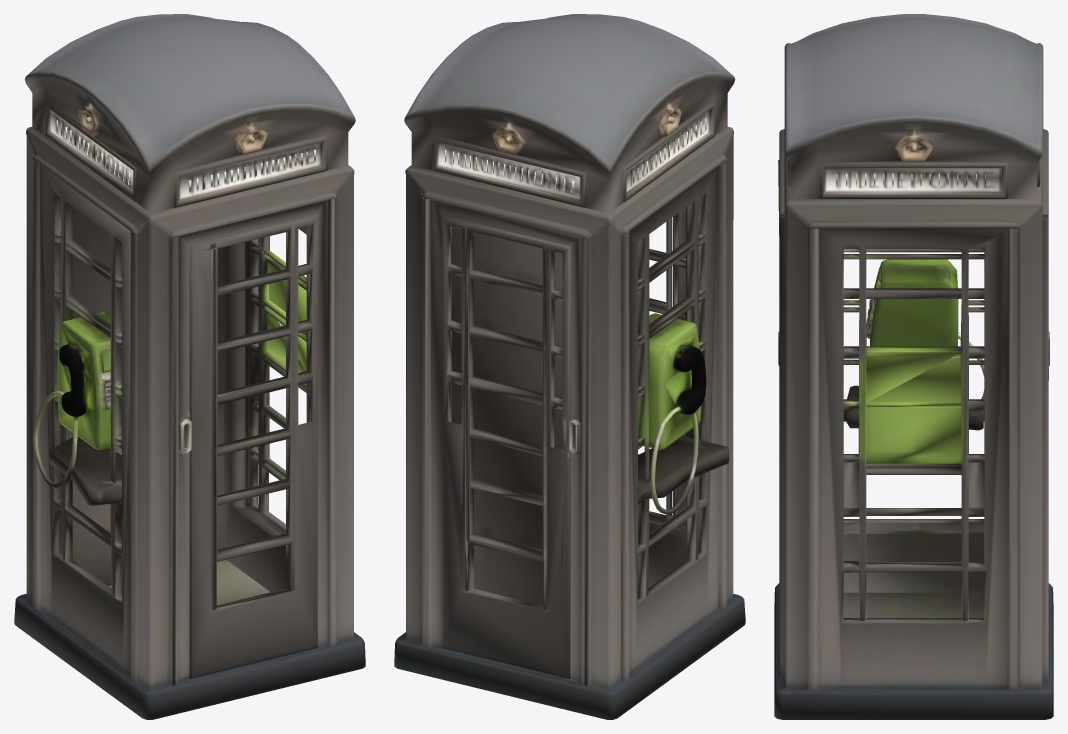
The model's file is Outdoor__telephone_booth_city_realistic_style_30e5b2f9_v2.cluster.glb.
3 renders of one model, left to right at view 1: azimuth 30°, elevation 25°; view 2: azimuth 150°, elevation 25°; view 3: azimuth 270°, elevation 25°, orthographic. The views are drawn at different scales.
Visible parts, largest first — view 1: mesh_input; view 2: mesh_input; view 3: mesh_input.
Part boxes in pixels (x1,y1,x2,y2): mesh_input: [14, 14, 365, 719]; mesh_input: [394, 14, 745, 719]; mesh_input: [774, 14, 1053, 719].
Bounding box in the file's own units: 0.8008 × 1.9 × 0.7773.
1 material, 1 textured.
